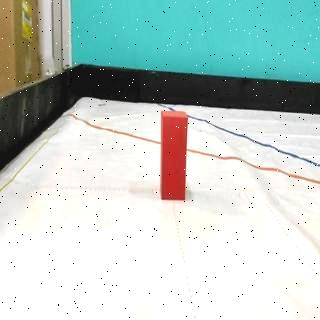redbox: (158, 109, 186, 201)
